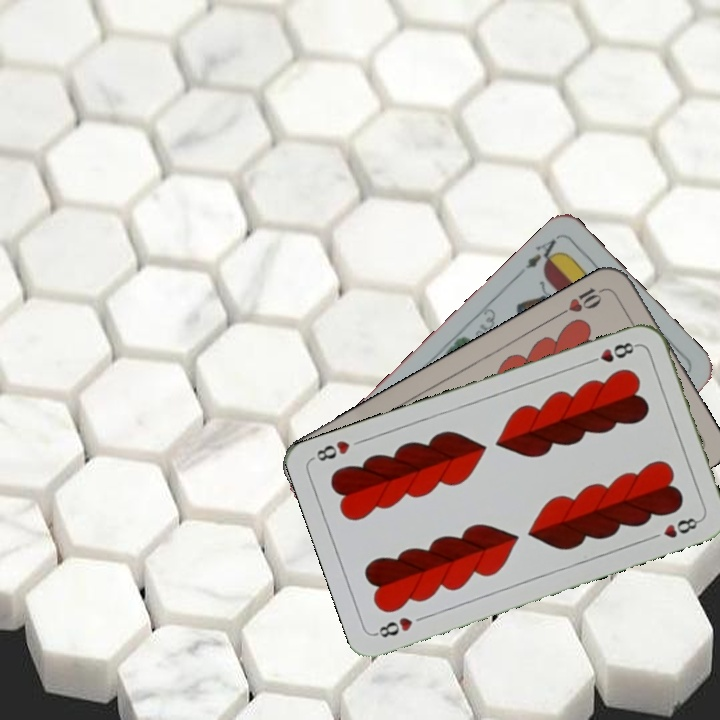EA: (514, 235, 564, 278)
H10: (555, 283, 610, 318)
H8: (583, 338, 641, 367), (371, 613, 415, 641)
